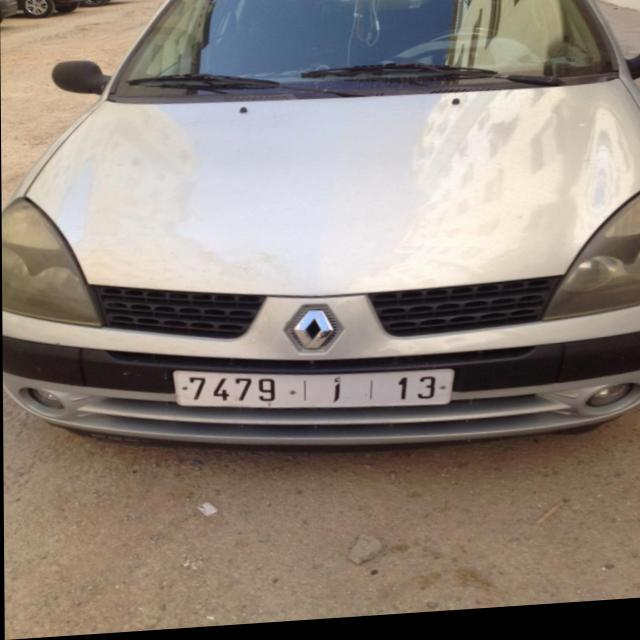License-Plate: (172, 373, 454, 413)
